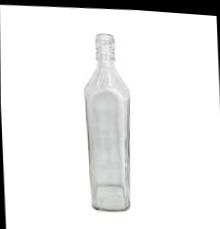glass: (85, 33, 129, 209)
